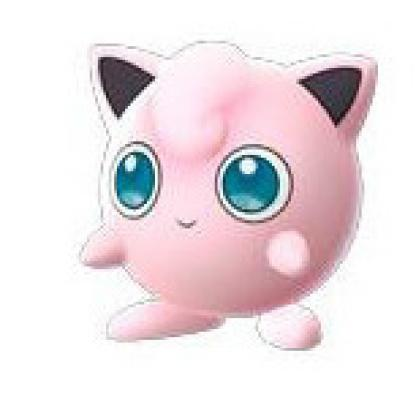Jigglypuff: (68, 21, 388, 369)
